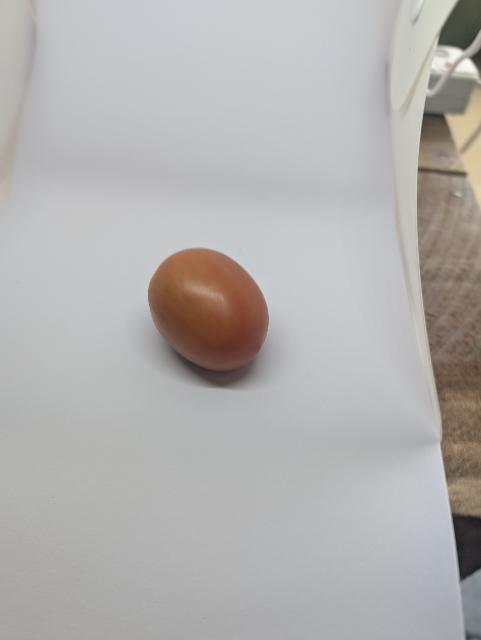turning: (140, 240, 279, 376)
